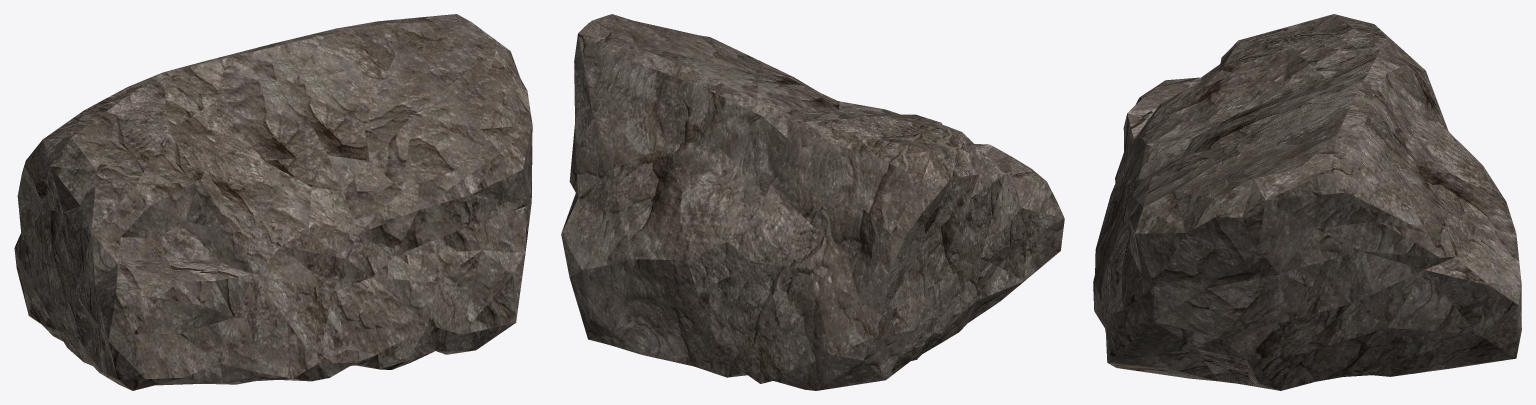
The model's file is Custom_Model_f92714-transformed.glb.
The picture shows the model from 3 angles, left to right: view 1: azimuth 30°, elevation 25°; view 2: azimuth 150°, elevation 25°; view 3: azimuth 270°, elevation 25°; orthographic projection. The views are drawn at different scales.
Parts seen in each view (by area): view 1: instance_1_ID21; view 2: instance_1_ID21; view 3: instance_1_ID21.
Boxes of the visible parts, box(x1,y1,x2,y2) form: instance_1_ID21: box(14, 14, 532, 390); instance_1_ID21: box(561, 14, 1064, 390); instance_1_ID21: box(1093, 14, 1521, 390).
Size of the model in its own units: 2.75 by 1.46 by 2.21.
1 material, 1 textured.
